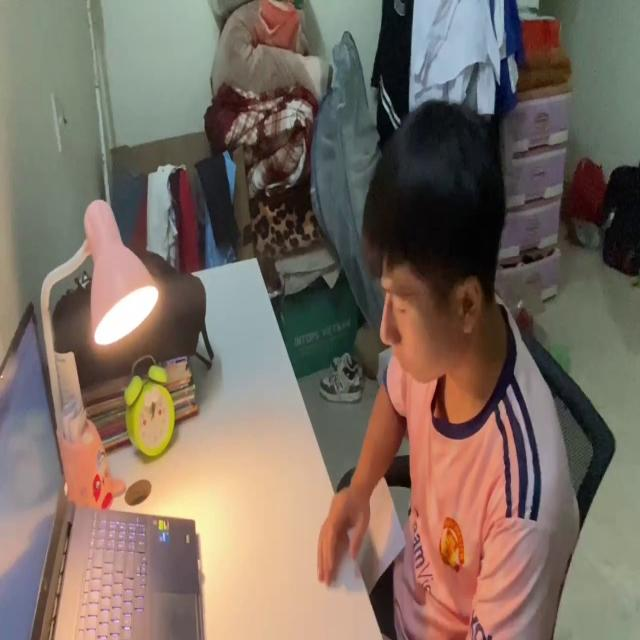book: (354, 471, 406, 603)
laptop: (3, 294, 201, 640)
student: (317, 104, 579, 640)
